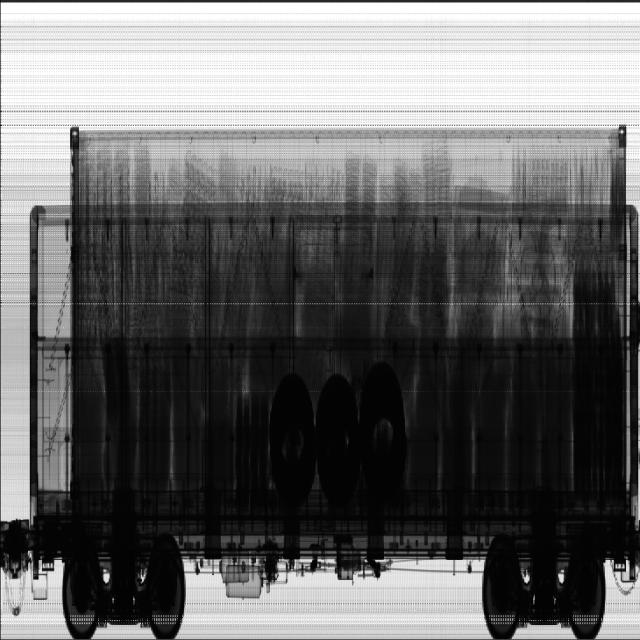shoes: (75, 134, 454, 328), (511, 145, 572, 202)
